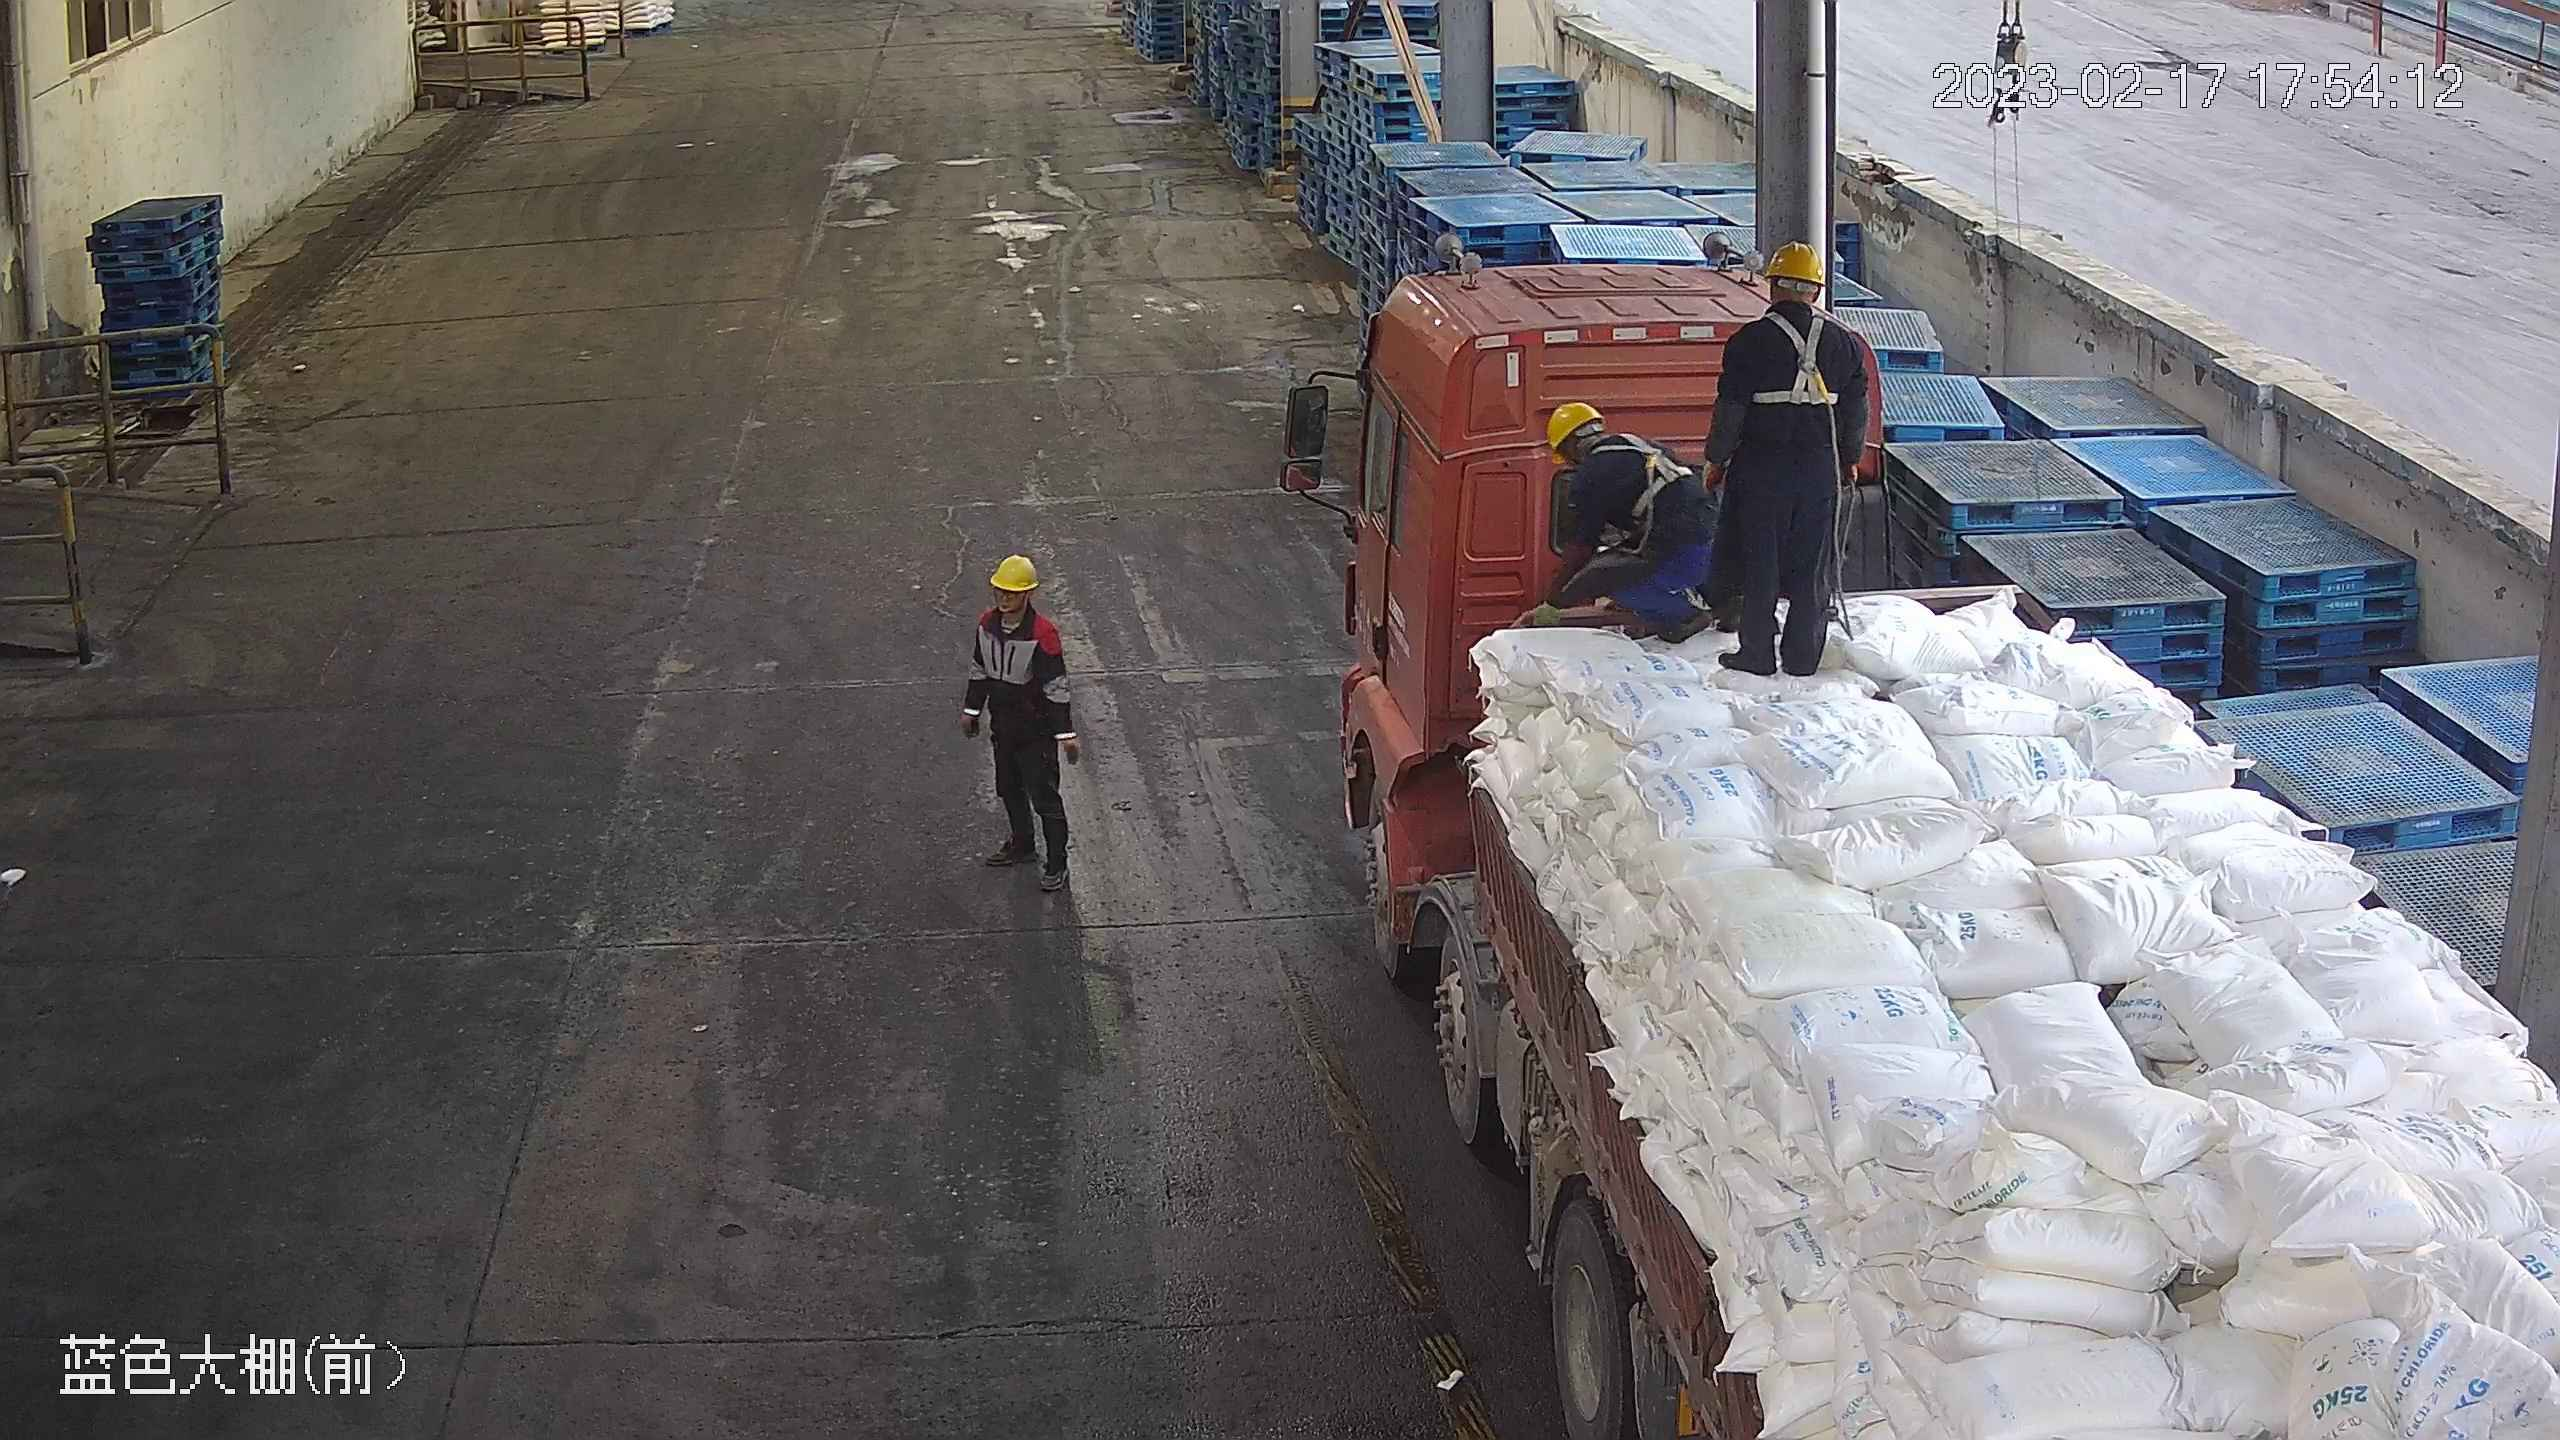belt: (1721, 246, 1871, 396), (1749, 306, 1845, 413), (1600, 427, 1691, 501)
head: (1717, 241, 1874, 390), (1542, 397, 1670, 514), (965, 553, 1068, 666)
helmet: (1544, 396, 1602, 457), (1760, 239, 1828, 290), (988, 552, 1037, 594)
people: (1701, 237, 1880, 682), (1531, 398, 1714, 649), (960, 553, 1081, 898)
truck: (1281, 233, 2560, 1440)
